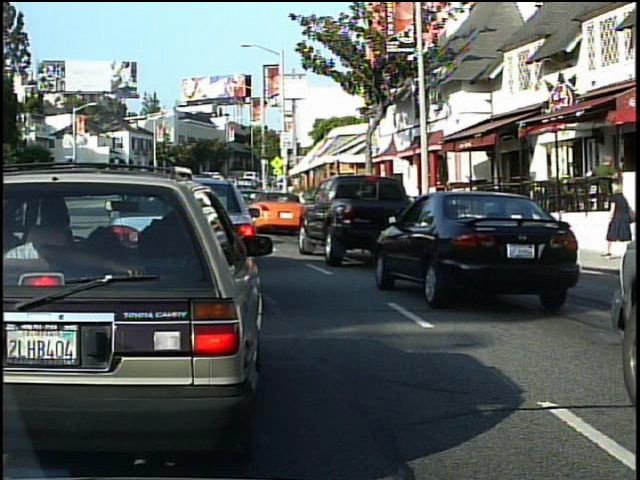person: (589, 149, 623, 232), (604, 178, 634, 259)
